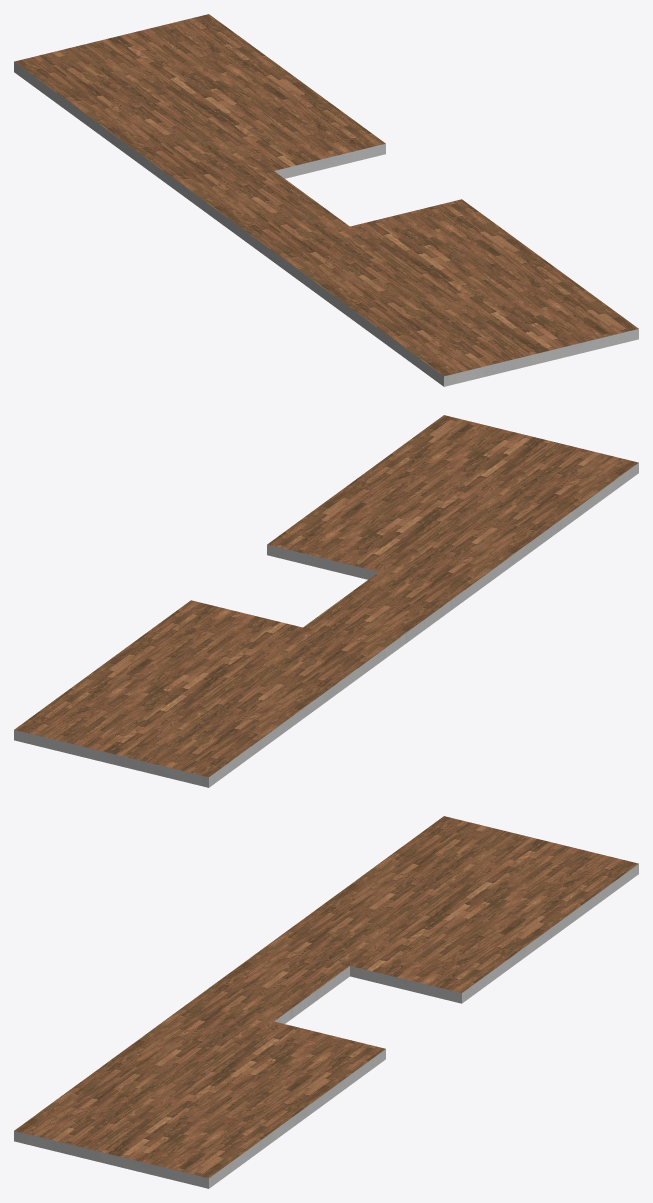
The model's file is Floor2Floor.fbx.
The picture shows the model from 3 angles, top to bottom: view 1: azimuth 30°, elevation 25°; view 2: azimuth 150°, elevation 25°; view 3: azimuth 330°, elevation 25°; orthographic projection.
Visible parts, largest first — view 1: Ceiling.001; view 2: Ceiling.001; view 3: Ceiling.001.
Boxes of the visible parts, x1,y1,x2,y2 form: Ceiling.001: (14, 14, 638, 386); Ceiling.001: (14, 415, 638, 787); Ceiling.001: (14, 816, 638, 1188).
Size of the model in its own units: 450 by 23.26 by 1720.
2 materials, 2 textured.
